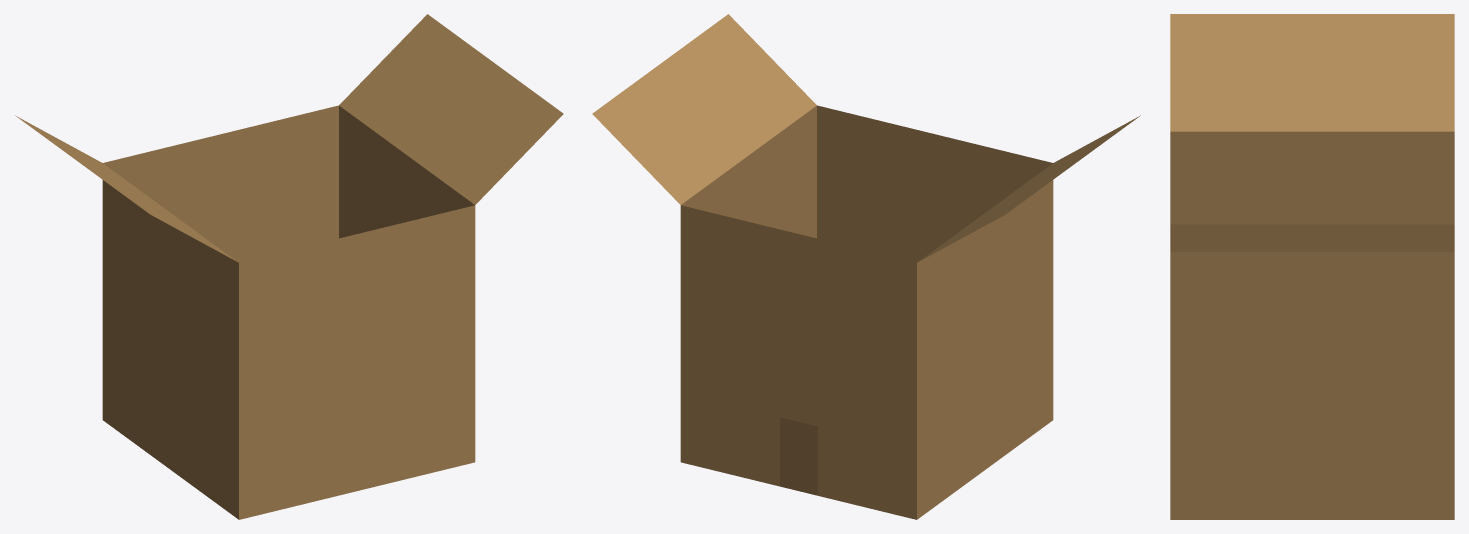
The model's file is cardboardBoxOpen.glb.
3 renders of one model, left to right at view 1: azimuth 30°, elevation 25°; view 2: azimuth 150°, elevation 25°; view 3: azimuth 270°, elevation 25°, orthographic. The views are drawn at different scales.
Visible parts, largest first — view 1: cardboardBoxOpen; view 2: cardboardBoxOpen; view 3: cardboardBoxOpen.
Boxes of the visible parts, bbox=[...] form: cardboardBoxOpen: bbox=[15, 14, 563, 519]; cardboardBoxOpen: bbox=[592, 14, 1140, 519]; cardboardBoxOpen: bbox=[1170, 14, 1454, 519].
Bounding box in the file's own units: 0.7437 × 0.562 × 0.425.
